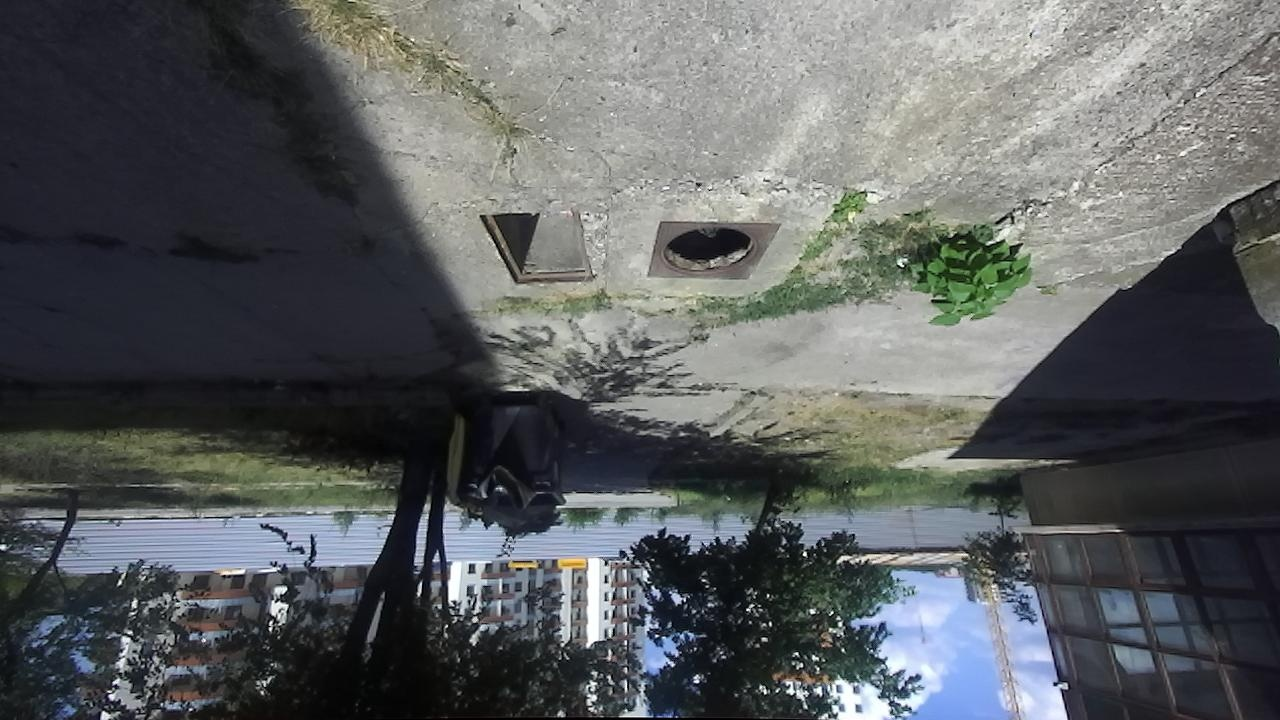drain: (473, 206, 598, 290), (657, 224, 766, 277)
